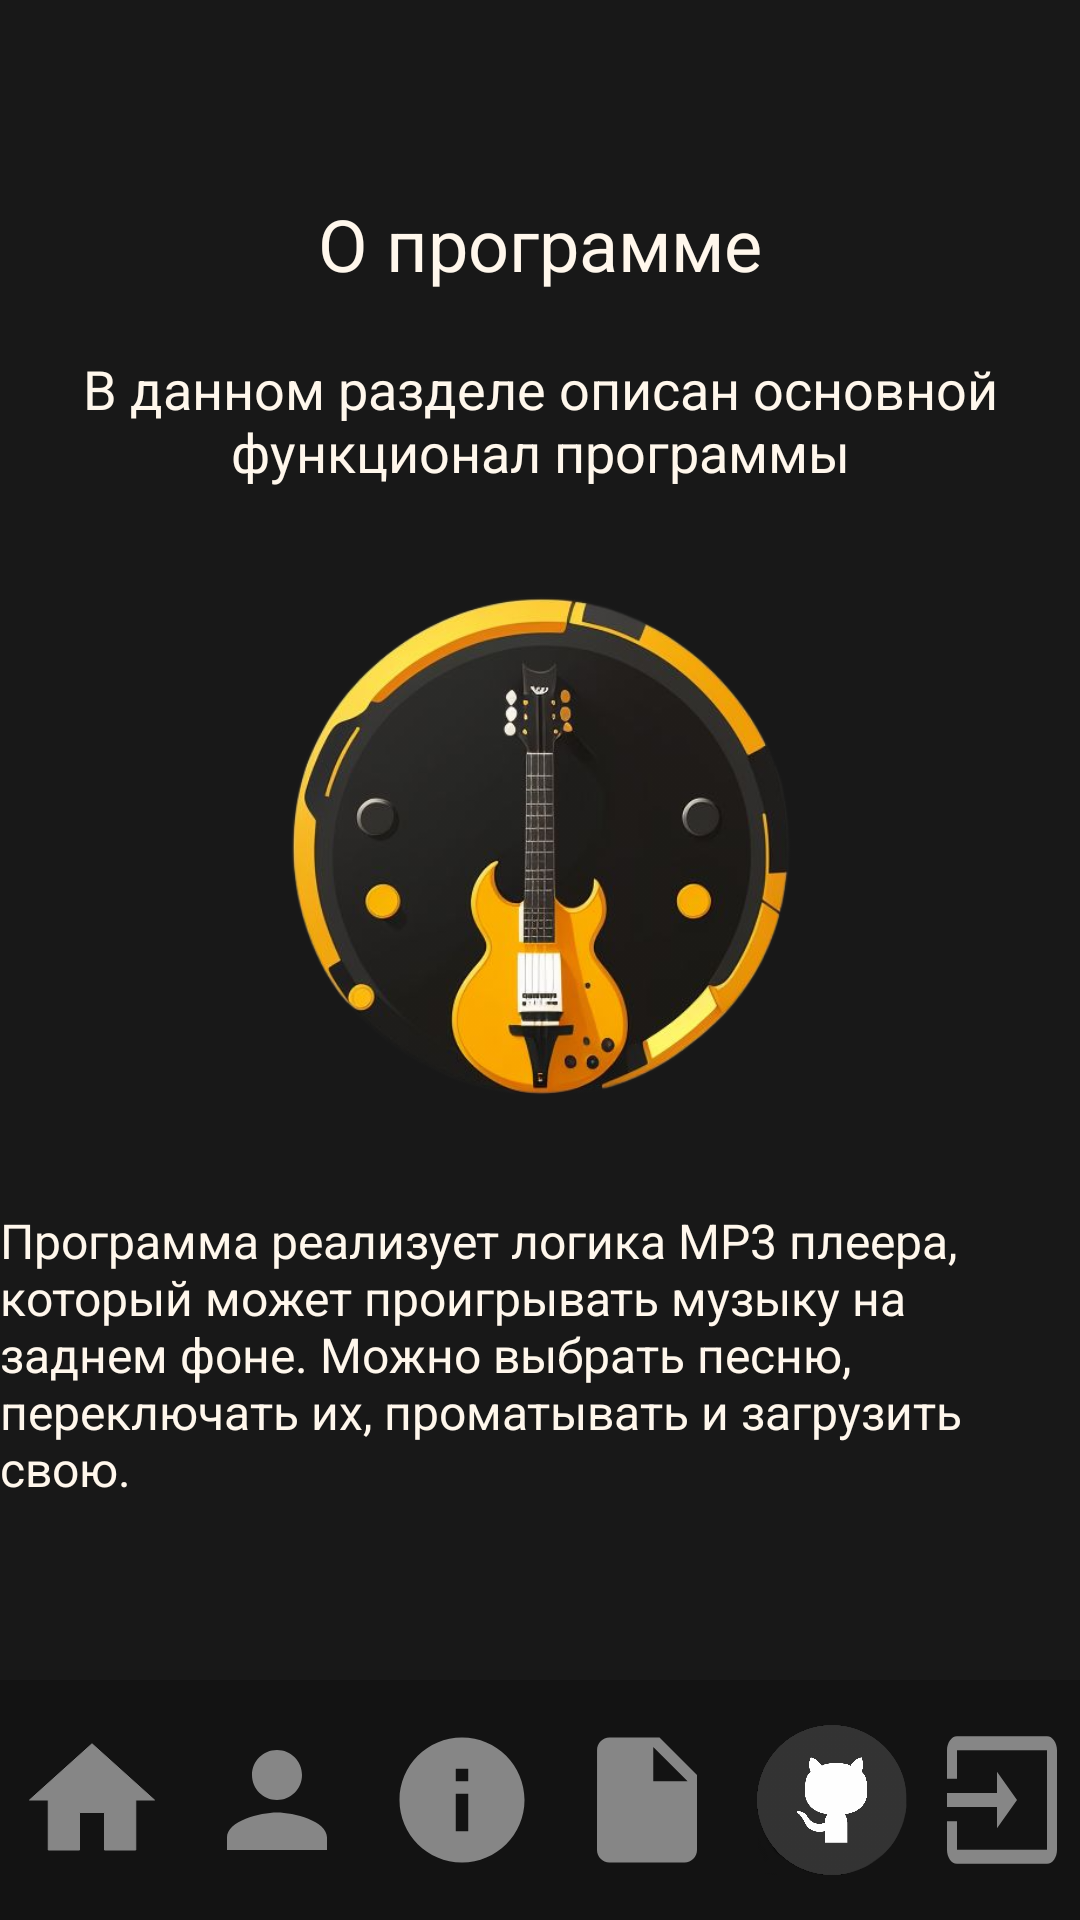

Where to tap for icons on this 1080w x 1920h app screen, as point (x, y):
about prog: point (462, 1800)
exit: point (1002, 1800)
instruction: point (647, 1800)
user: point (277, 1800)
